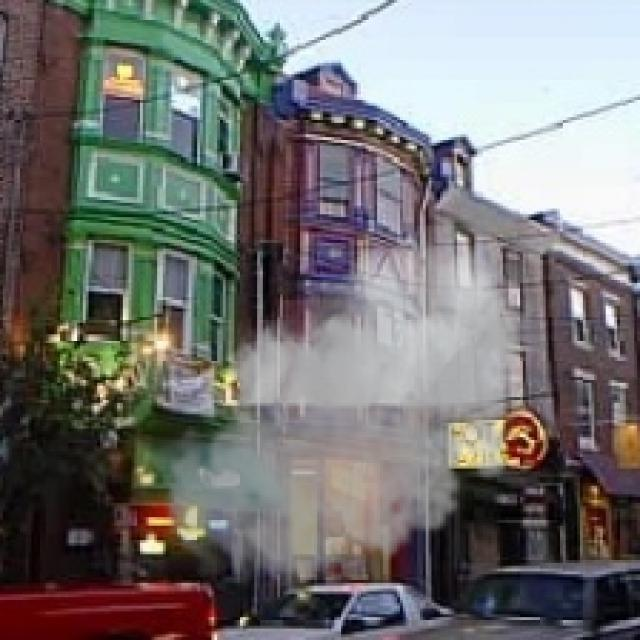Smoke: (157, 225, 534, 606)
